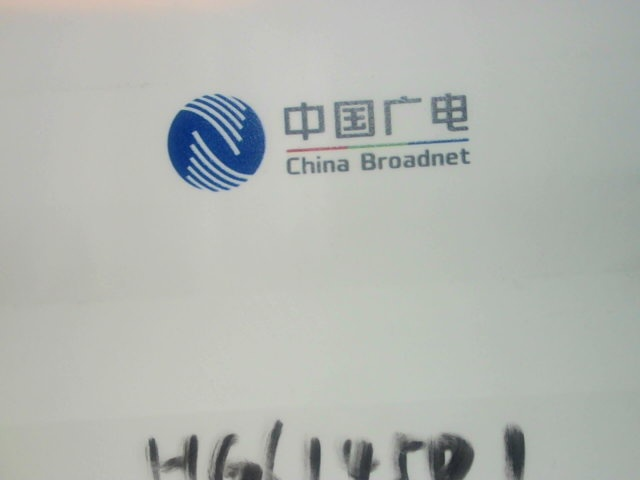AW_ChinaBroadNet: (138, 74, 489, 199)
